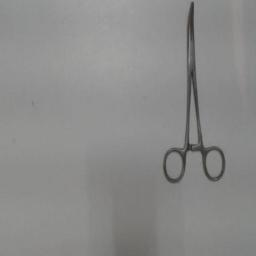Crile Artery Forceps: (159, 0, 229, 186)
